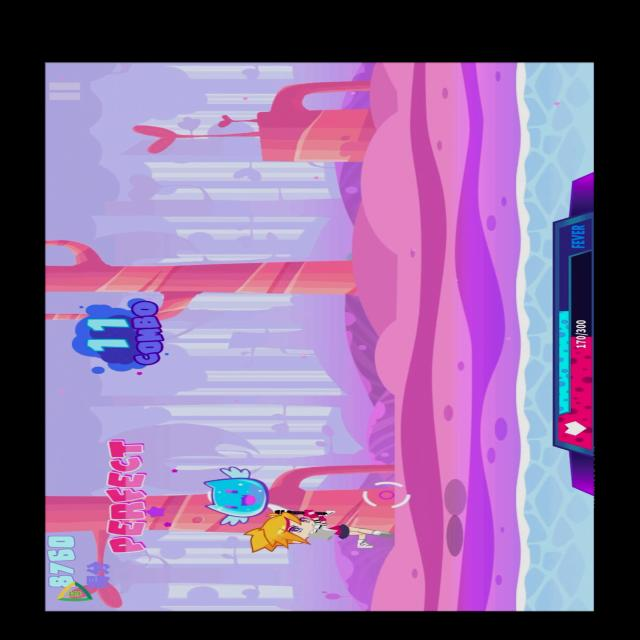Sky Monster - Blue Devil: (200, 462, 268, 526)
